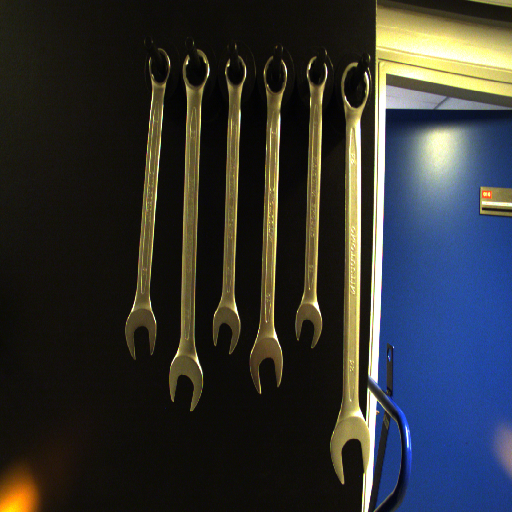bottom: (328, 416, 372, 484), (247, 337, 291, 397), (167, 354, 206, 414), (124, 309, 158, 362), (291, 302, 324, 350), (210, 305, 242, 354)
top: (338, 59, 371, 111), (181, 47, 211, 89), (259, 54, 289, 95), (145, 46, 172, 88), (220, 54, 248, 88), (303, 54, 330, 87)
